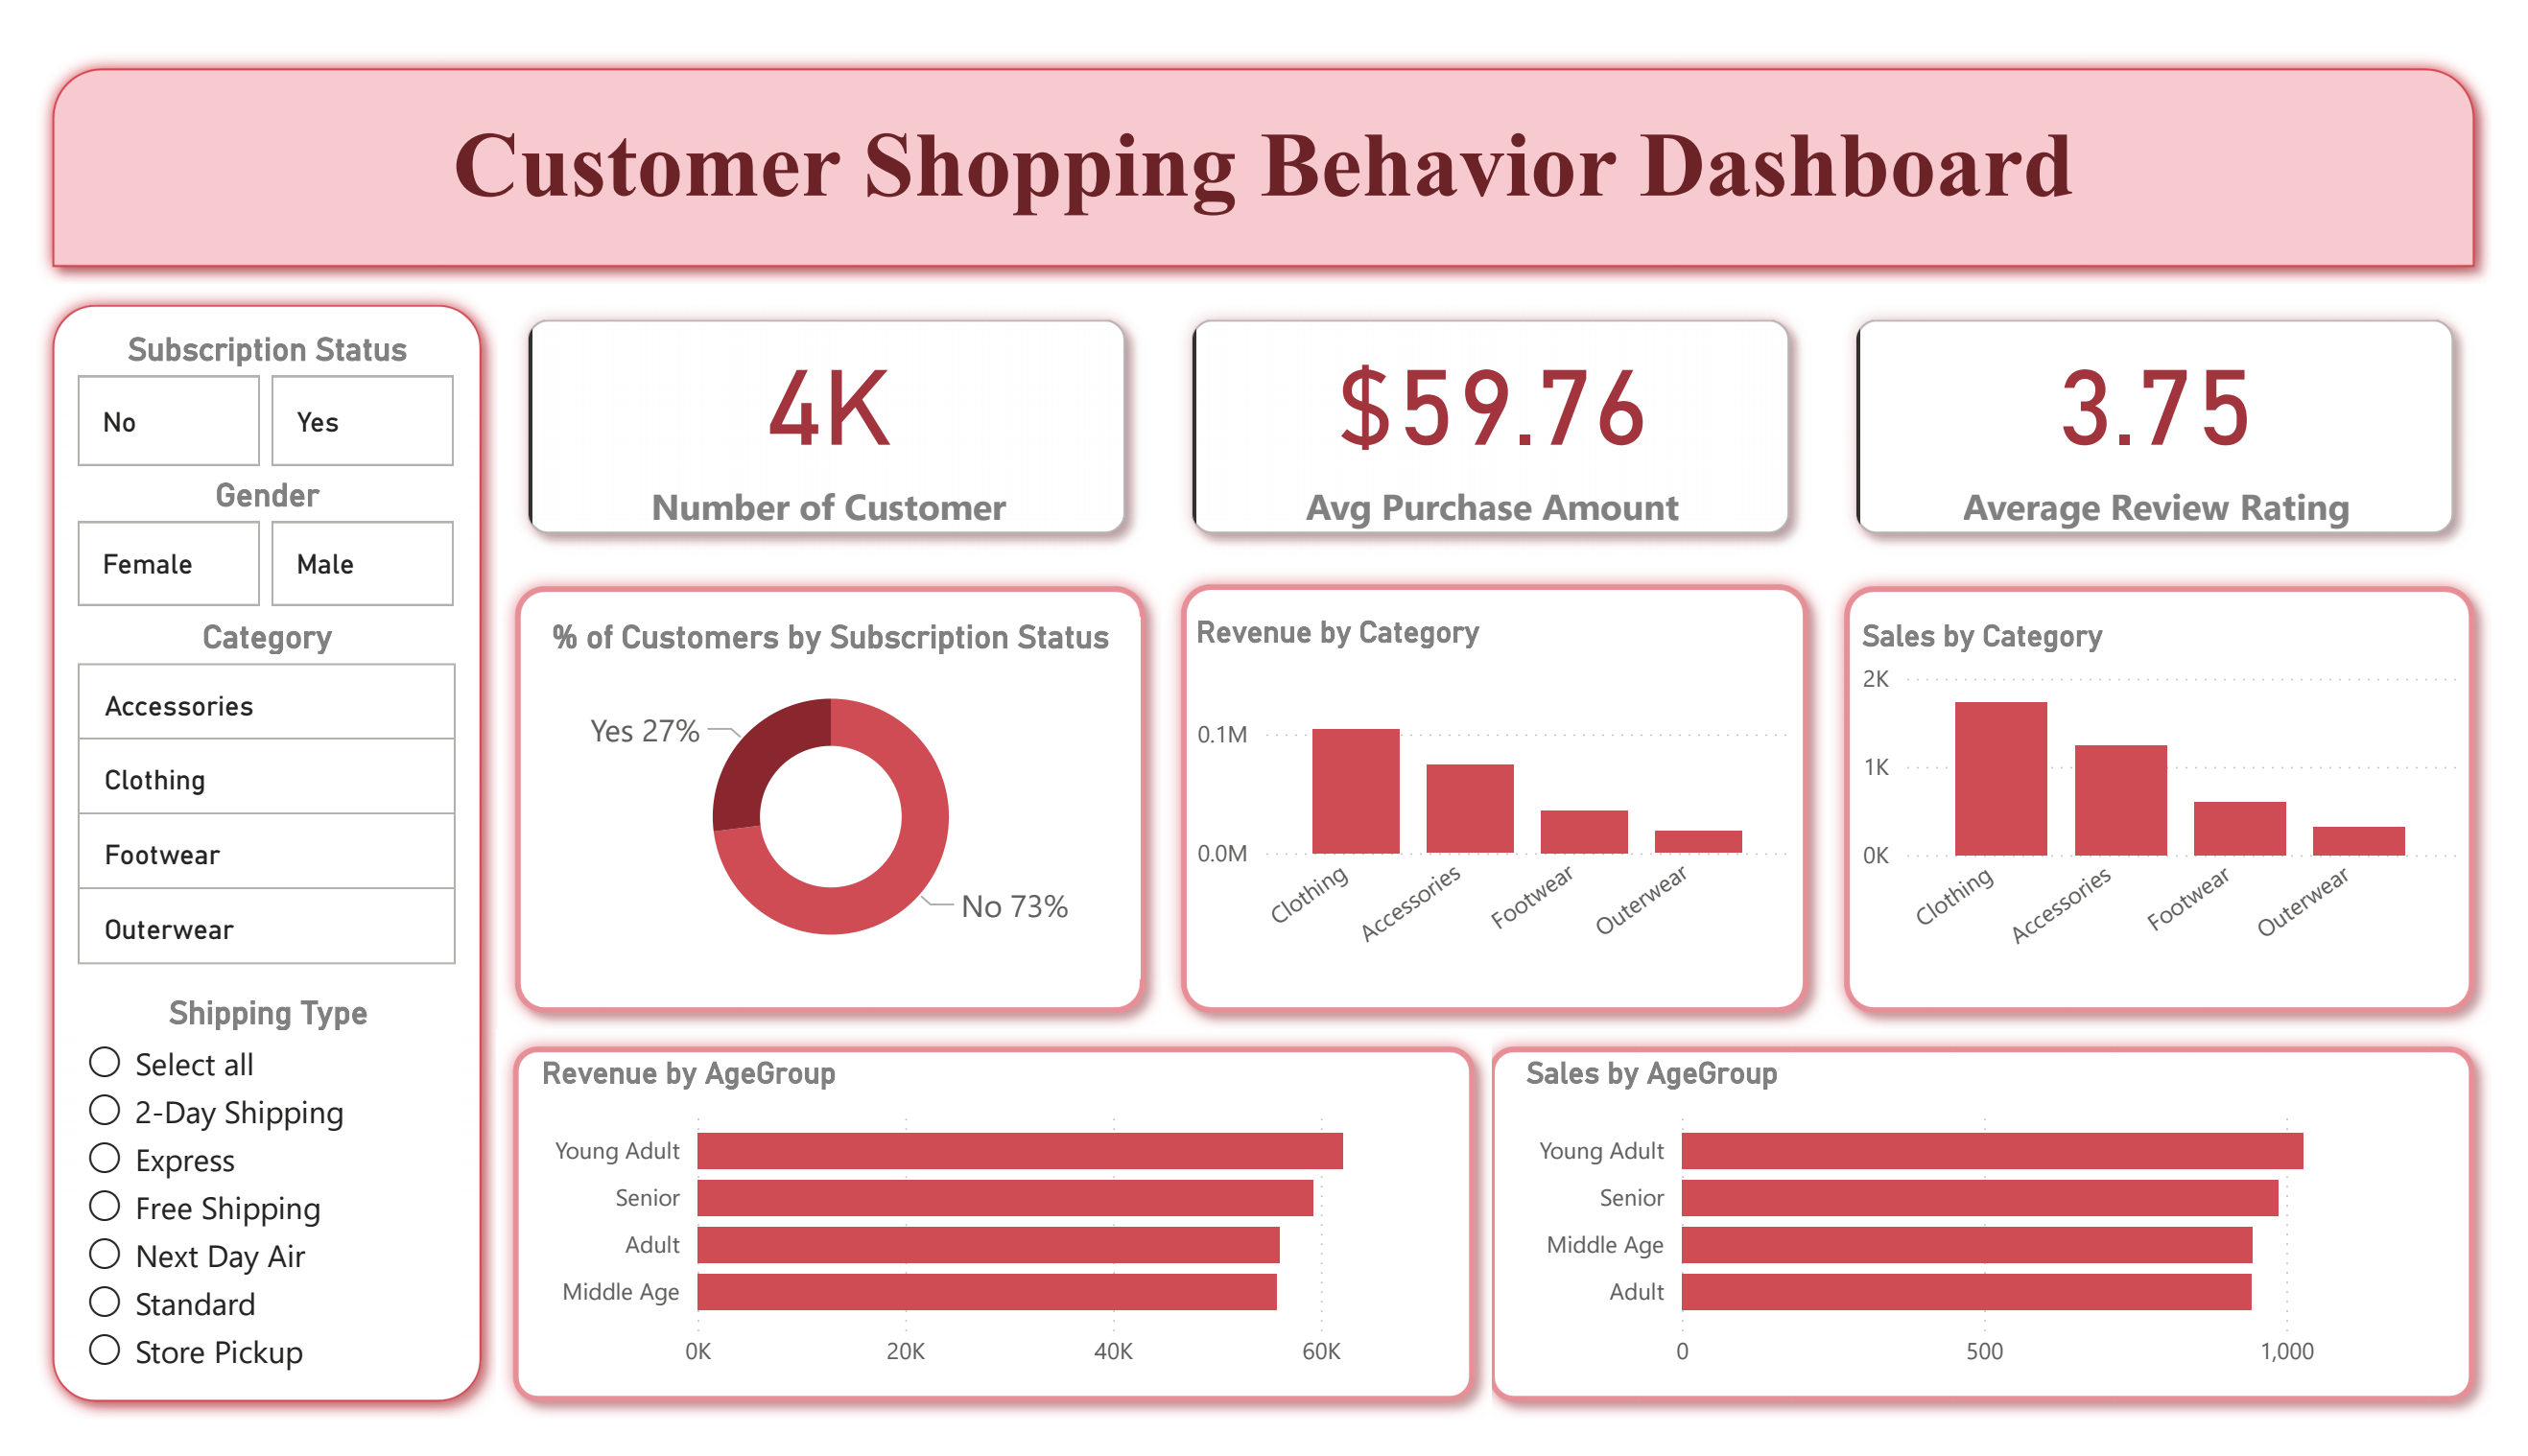

The dashboard page shown, as its layout file describes it:
{"tool":"powerbi","page":{"name":"Page 1","canvas":[1280,720],"ordinal":0},"visuals":[{"type":"cardVisual","fields":{"Data":["public custo.Number of Customer","public custo.Avg Purchase Amount","public custo.Average Review Rating"]},"box":[240.5,129.6,1038,145],"z":0},{"type":"shape","box":[0,7.2,1280,121.2],"z":1000},{"type":"textbox","box":[141.4,33.2,997.2,67.8],"z":2000},{"type":"shape","box":[241,277.1,346.3,239.5],"z":3000},{"type":"donutChart","title":"% of Customers by Subscription Status","fields":{"Category":["public custo.subscription_status"],"Y":["CountNonNull(public custo.customer_id)"]},"box":[252.5,301.6,323.2,189],"z":4000},{"type":"shape","box":[933.7,277.1,346.3,239.5],"z":5000},{"type":"shape","box":[587.5,276.5,345.6,240.5],"z":6000},{"type":"columnChart","title":"Revenue by Category","fields":{"Category":["public custo.category"],"Y":["Sum(public custo.purchase_amount)"]},"box":[600.5,299.5,319.7,190.1],"z":7000},{"type":"columnChart","title":"Sales by Category","fields":{"Category":["public custo.category"],"Y":["CountNonNull(public custo.customer_id)"]},"box":[946.7,301.6,320.4,189],"z":8000},{"type":"shape","box":[0,129.9,241,590.2],"z":9000},{"type":"advancedSlicerVisual","title":"Subscription Status","fields":{"Values":["public custo.subscription_status"]},"box":[17.3,151.5,207.8,76.5],"z":10000},{"type":"advancedSlicerVisual","title":"Gender","fields":{"Values":["public custo.gender"]},"box":[17.3,228,207.8,73.6],"z":11000},{"type":"advancedSlicerVisual","title":"Category","fields":{"Values":["public custo.category"]},"box":[17.3,301.6,207.8,189],"z":12000},{"type":"listSlicer","title":"Shipping Type","fields":{"Values":["public custo.shipping_type"]},"box":[21.6,497.9,199.1,204.9],"z":13000},{"type":"clusteredBarChart","fields":{"Category":["public custo.age_group"],"Y":["Sum(public custo.purchase_amount)"]},"box":[587.5,517,442.1,168.5],"z":14000},{"type":"shape","box":[748.8,517,531.4,203],"z":15000},{"type":"shape","box":[240.5,517,518.4,203],"z":16000},{"type":"clusteredBarChart","title":"Revenue by AgeGroup","fields":{"Category":["public custo.age_group"],"Y":["Sum(public custo.purchase_amount)"]},"box":[259.2,529.9,479.5,172.8],"z":17000},{"type":"clusteredBarChart","title":"Sales by AgeGroup","fields":{"Category":["public custo.age_group"],"Y":["CountNonNull(public custo.customer_id)"]},"box":[771.8,529.9,483.8,172.8],"z":18000}]}

Visuals, with their boxes in screenshot pixels (x1, y1, x2, y2), scaled from the page's 1280x720 canvas onto the 2528x1456 screenshot:
cardVisual - public custo.Number of Customer x public custo.Avg Purchase Amount: [x1=475, y1=262, x2=2525, y2=555]
shape: [x1=0, y1=14, x2=2527, y2=260]
textbox: [x1=279, y1=67, x2=2249, y2=204]
shape: [x1=476, y1=560, x2=1160, y2=1045]
"% of Customers by Subscription Status" donutChart: [x1=499, y1=610, x2=1137, y2=992]
shape: [x1=1844, y1=560, x2=2527, y2=1045]
shape: [x1=1160, y1=559, x2=1843, y2=1045]
"Revenue by Category" columnChart: [x1=1186, y1=605, x2=1817, y2=990]
"Sales by Category" columnChart: [x1=1870, y1=610, x2=2502, y2=992]
shape: [x1=0, y1=263, x2=476, y2=1455]
"Subscription Status" advancedSlicerVisual: [x1=35, y1=306, x2=444, y2=461]
"Gender" advancedSlicerVisual: [x1=35, y1=461, x2=444, y2=610]
"Category" advancedSlicerVisual: [x1=35, y1=610, x2=444, y2=992]
"Shipping Type" listSlicer: [x1=42, y1=1007, x2=436, y2=1421]
clusteredBarChart - public custo.age_group x Sum(public custo.purchase_amount): [x1=1160, y1=1045, x2=2034, y2=1386]
shape: [x1=1478, y1=1045, x2=2527, y2=1455]
shape: [x1=475, y1=1045, x2=1499, y2=1455]
"Revenue by AgeGroup" clusteredBarChart: [x1=512, y1=1071, x2=1459, y2=1421]
"Sales by AgeGroup" clusteredBarChart: [x1=1524, y1=1071, x2=2480, y2=1421]
